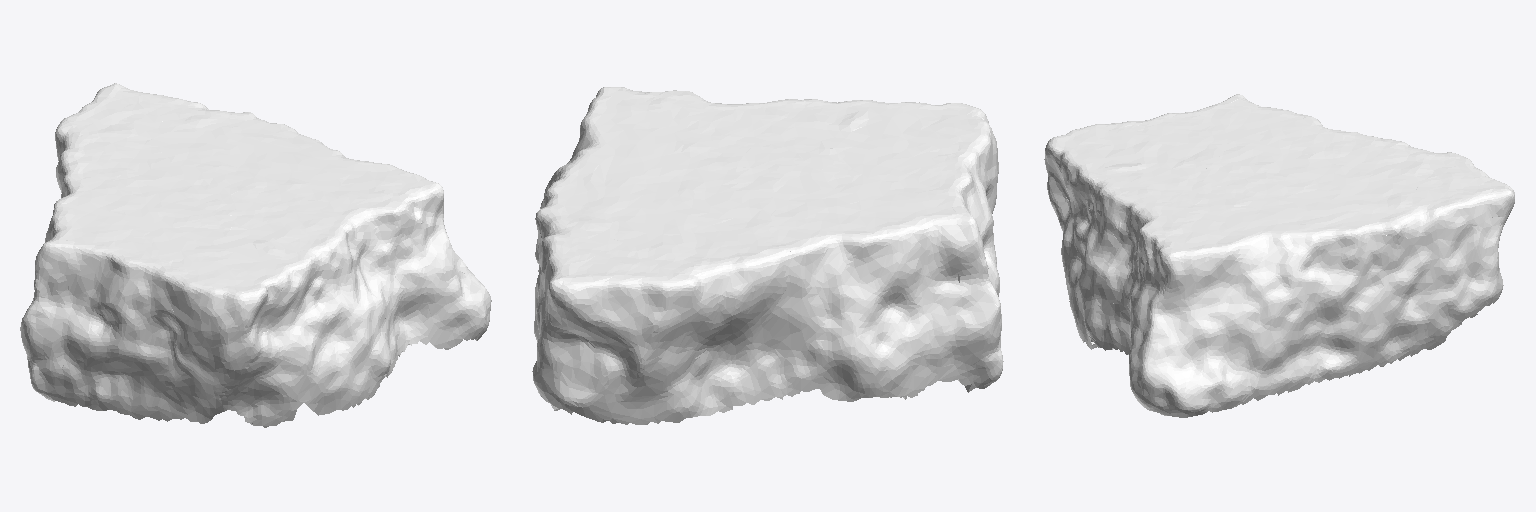
URDF robot description (frag1_top_calib_scaled):
<?xml version="1.0"?>
<robot name="frag1_top_calib_scaled">
  <material name="Blanc">
    <color rgba="1.0 1.0 1.0 1.0"/>
  </material>
  <link name="base_link">
    <visual>
      <origin xyz="0 0 0" rpy="0 0 0"/>
      <geometry>
        <mesh filename="frag1_small.stl"/>
      </geometry>
      <material name="Blanc"/>
    </visual>
    <collision>
      <origin xyz="0 0 0" rpy="0 0 0"/>
      <geometry>
	 	     <mesh filename="frag1_small.stl"/>
      </geometry>
    </collision>
    <contact>
      <lateral_friction value="2.0"/>
      <rolling_friction value="0.0001"/>
      <inertia_scaling value="3.0"/>
    </contact>
    <inertial>
      <origin rpy="0 0 0" xyz="0 0 0"/>
       <mass value="0.05"/>
       <inertia ixx="1" ixy="0" ixz="0" iyy="1" iyz="0" izz="1"/>
    </inertial>
  </link>

</robot>

--- Render facts (derived) ---
3 views of the same robot in one strip: view 1: azimuth 30°, elevation 25°; view 2: azimuth 150°, elevation 25°; view 3: azimuth 270°, elevation 25° (orthographic).
Model frag1_top_calib_scaled with 1 links and 0 joints (none), rooted at base_link, posed all joints at 0.
Visible links, largest first — view 1: base_link; view 2: base_link; view 3: base_link.
Boxes of the visible links, x1,y1,x2,y2 form: base_link: (20, 83, 491, 427); base_link: (532, 87, 1003, 424); base_link: (1044, 94, 1514, 417).
Bounding box of the posed robot: 0.0549 × 0.0564 × 0.0196 m (x, y, z).
Meshes: 1 distinct files referenced, 1 mesh visuals loaded (1 binary STL).
